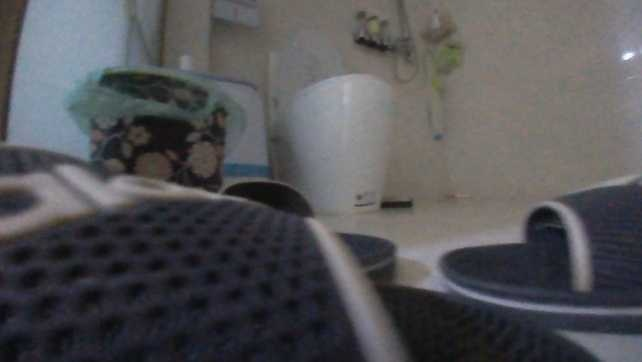toilet: (264, 28, 393, 211)
trash_can: (62, 61, 248, 200)
